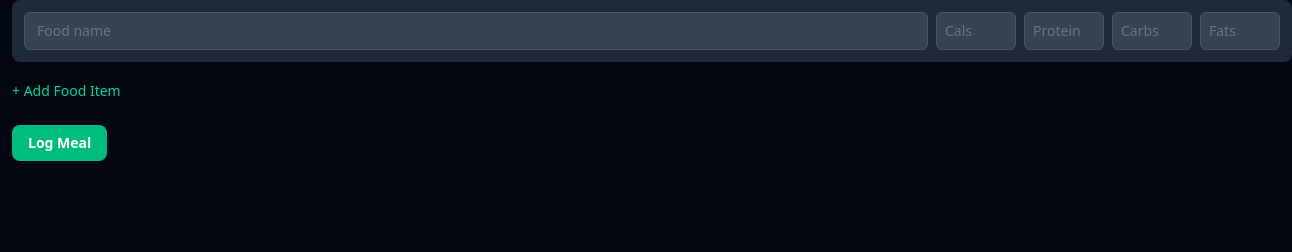
Scenario: MealForm › adding food items › adds a new food item row when Add Food Item is clicked
The width and height of the screenshot is (1292, 252).
Click the button "+ Add Food Item": {"x": 66, "y": 91} x1=12 y1=81 x2=121 y2=101
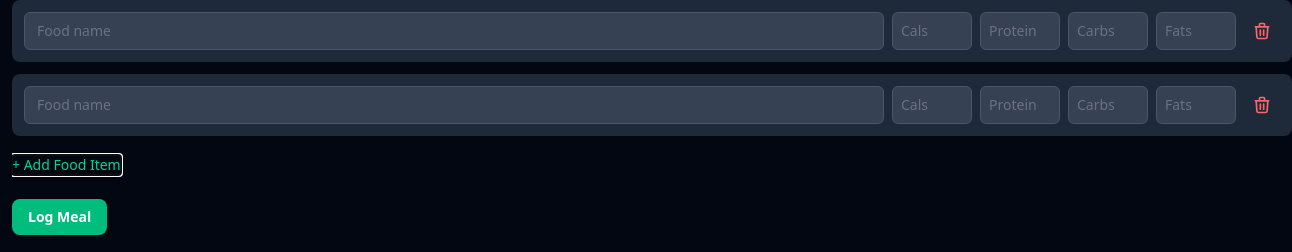
Result: the number of fields with placeholder "Food name" is 2 at x1=24 y1=12 x2=884 y2=50; x1=24 y1=86 x2=884 y2=124
